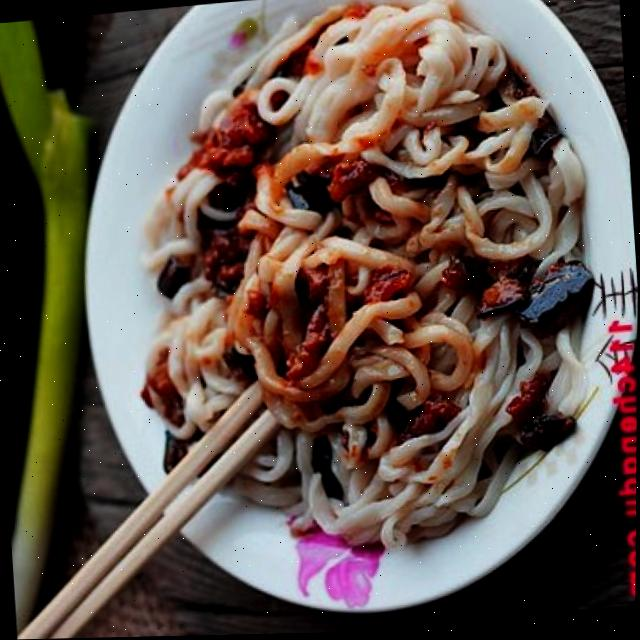面条主食: (38, 0, 640, 636)
